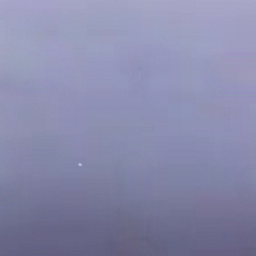Target: (77, 161, 84, 168)
